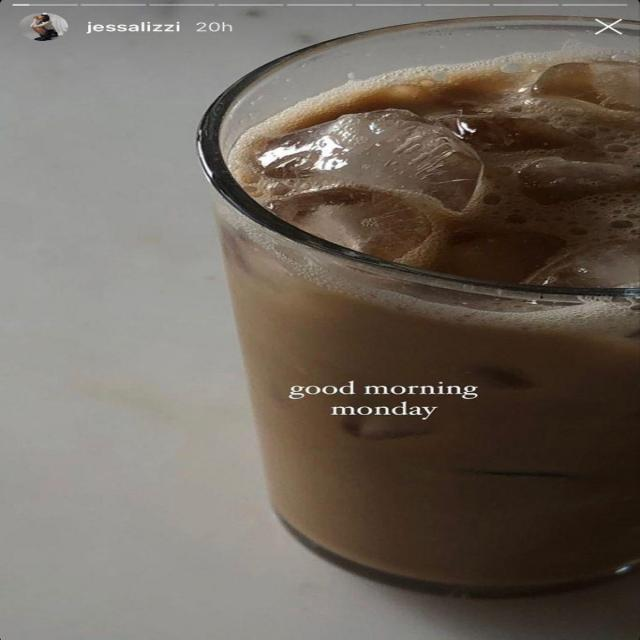glass-normal: (194, 11, 639, 598)
